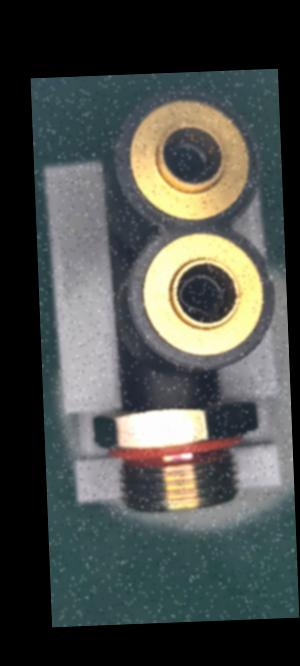bump: (258, 261, 275, 293), (110, 125, 126, 154)
off-centered: (171, 269, 228, 321)
white mark: (174, 388, 184, 404)
